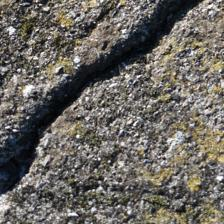Crack: (4, 5, 192, 193)
